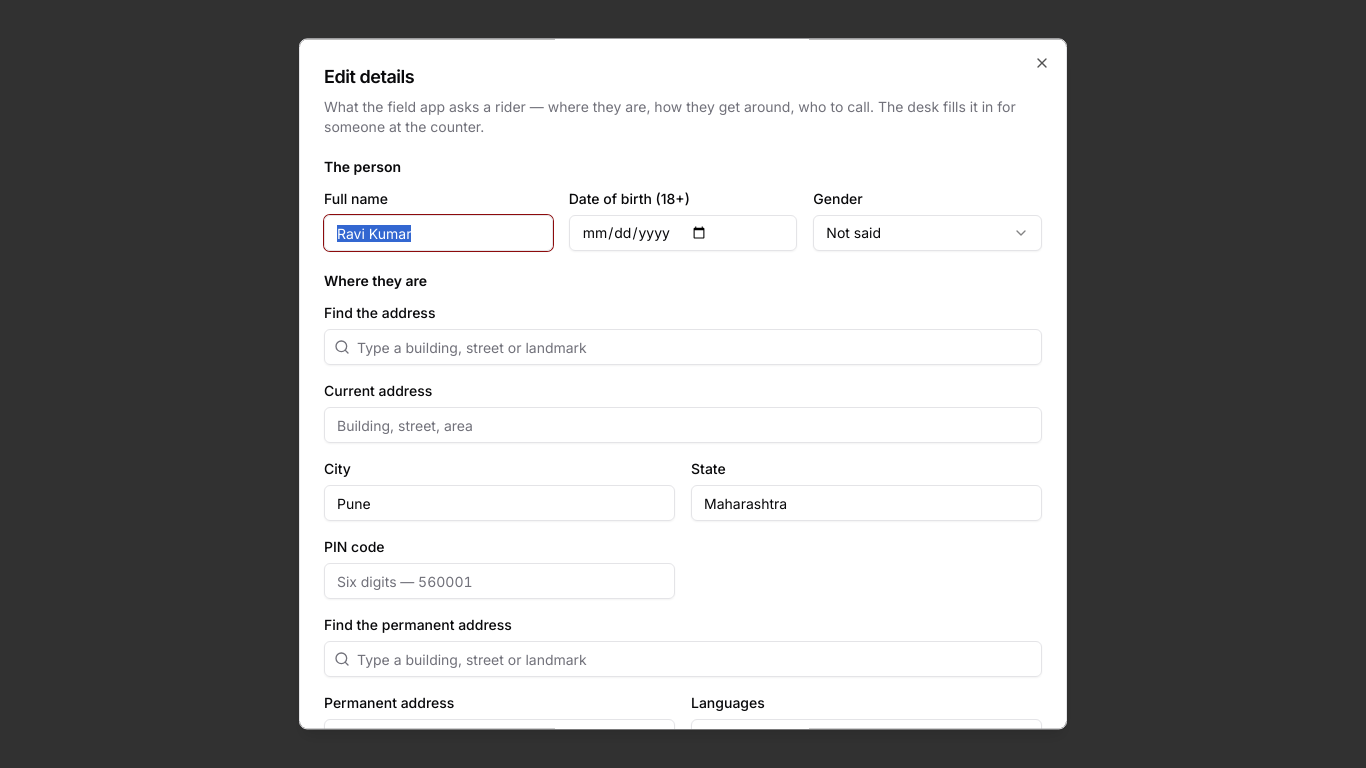
EditApplicationDialog — the addresses › refuses a PIN that is not six digits before the save
Type "04110" into the field labelled "PIN code". click: coordinates (500, 581)
box: [324,563,675,599]
(page scrolled)
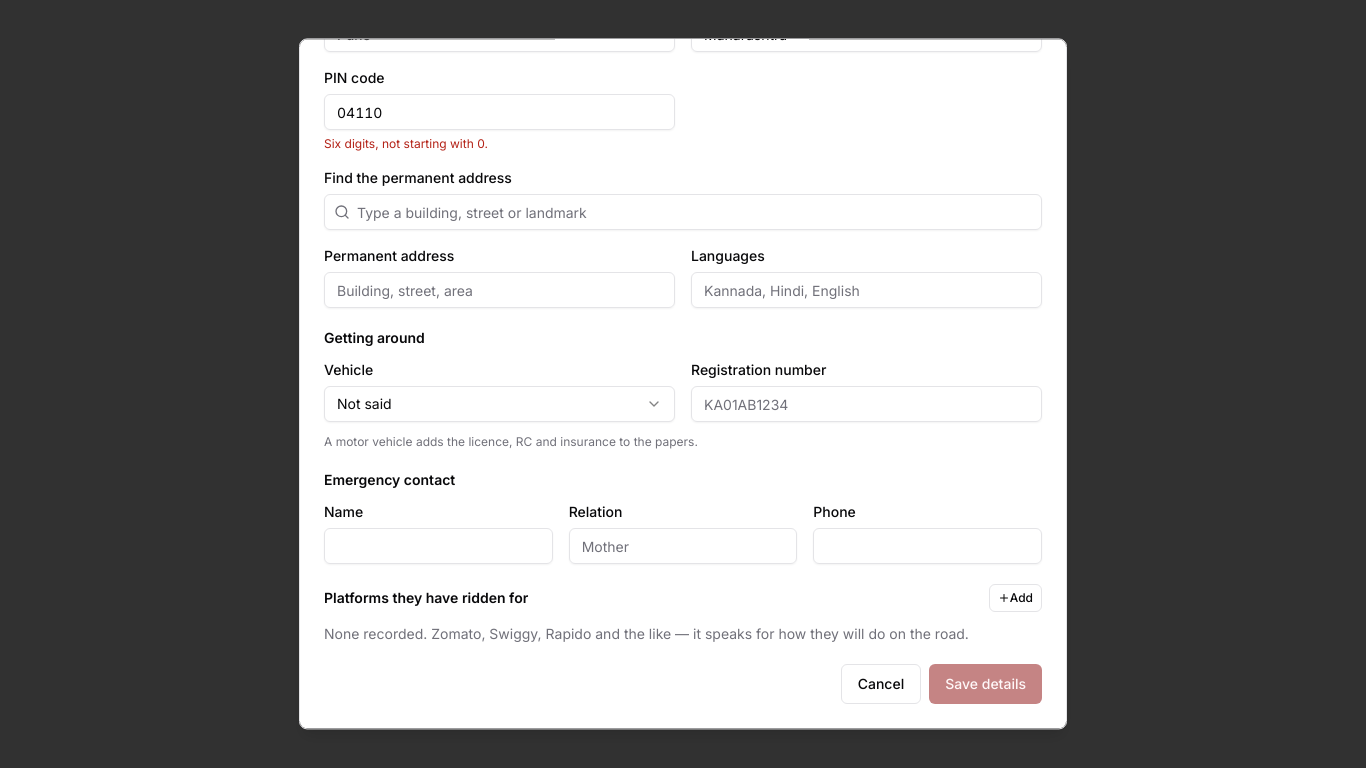
expect the text "Six digits, not starting with 0." is shown: met, box [324,136,488,151]
expect the button "Save details" is disabled: met, box [929,664,1042,704]
